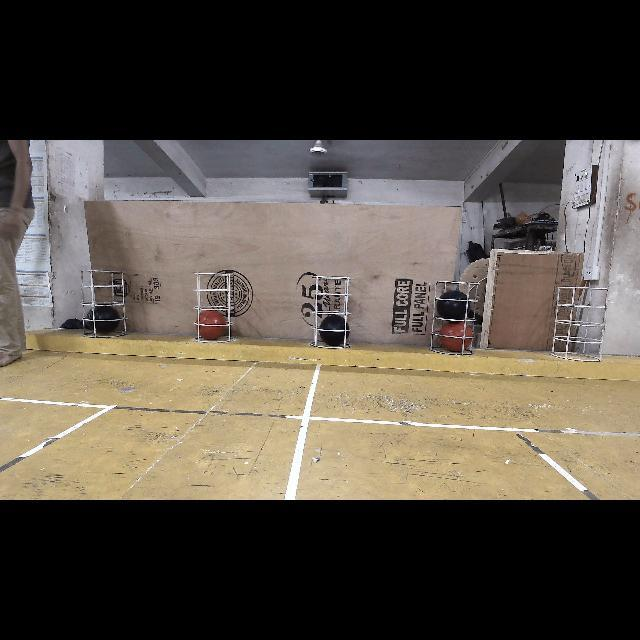P: (320, 316, 352, 346), (88, 303, 118, 335), (437, 292, 469, 321)
R: (438, 321, 472, 351), (194, 311, 224, 341)
S: (546, 281, 610, 359), (76, 266, 132, 342), (427, 278, 477, 356), (190, 268, 238, 344), (314, 272, 354, 348)
